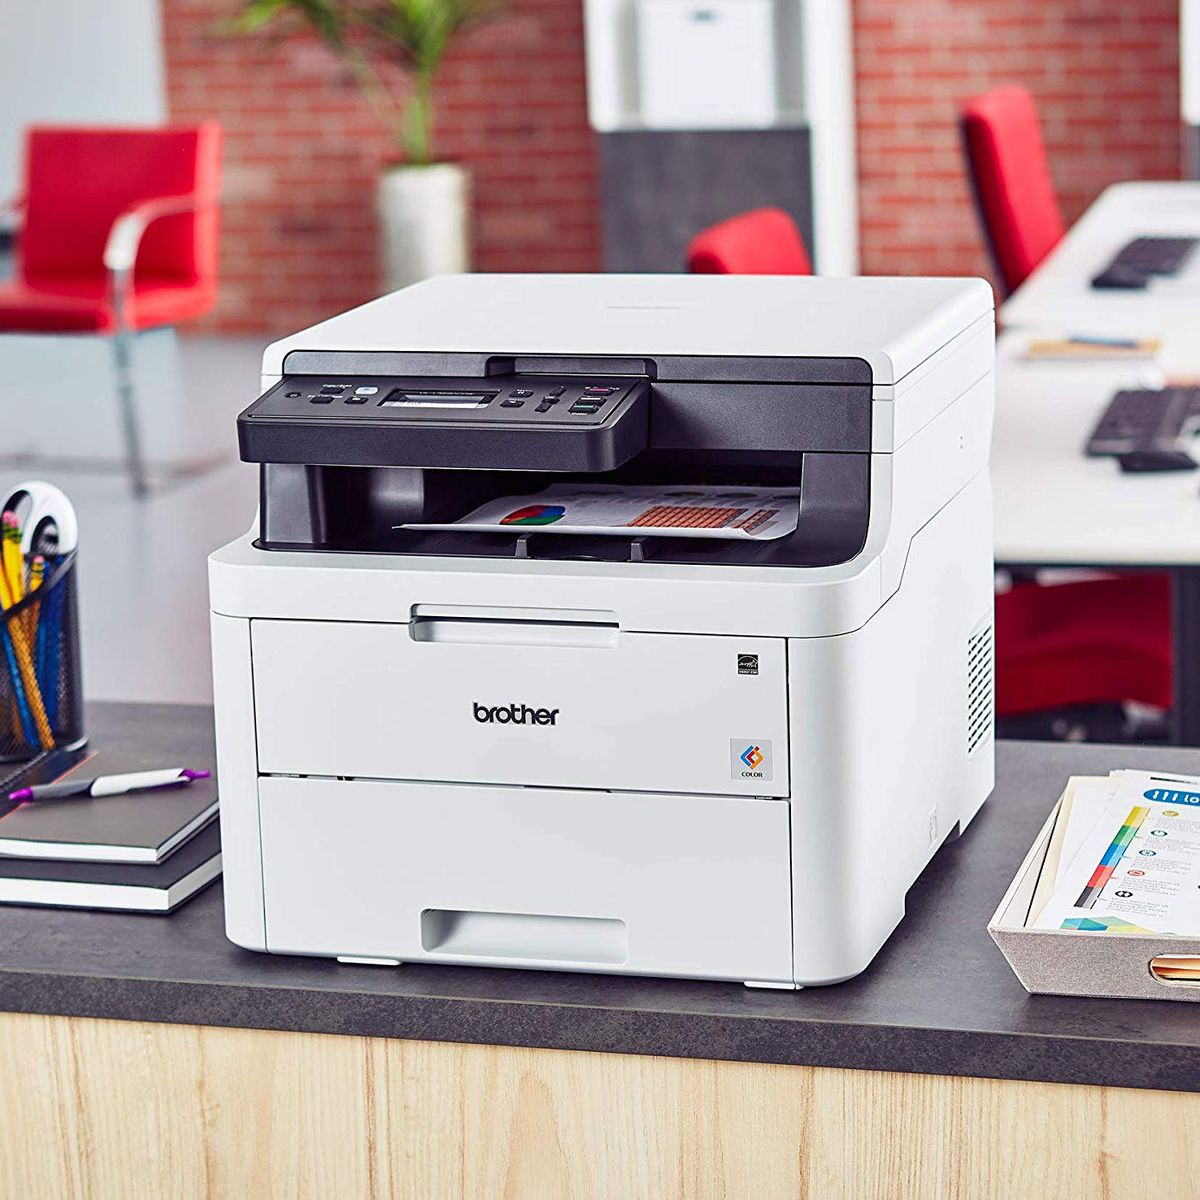printer: (192, 258, 1004, 1001)
